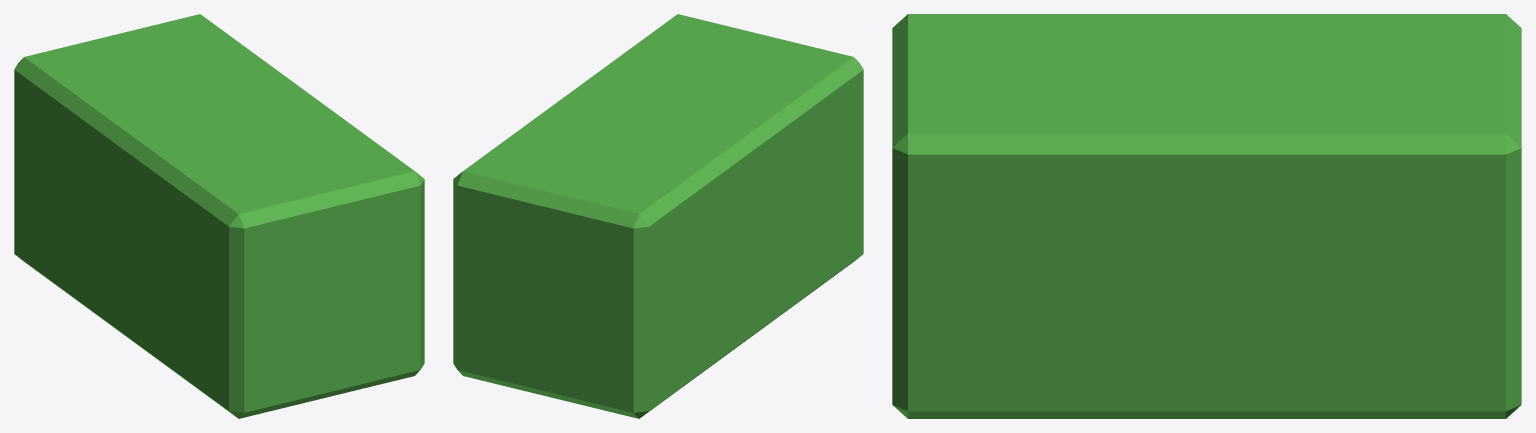
Rendered from Hedge-4x2x2-Straight.FBX.
3 renders of one model, left to right at view 1: azimuth 30°, elevation 25°; view 2: azimuth 150°, elevation 25°; view 3: azimuth 270°, elevation 25°, orthographic. The views are drawn at different scales.
Parts seen in each view (by area): view 1: Hedge-4x2x2-Straight; view 2: Hedge-4x2x2-Straight; view 3: Hedge-4x2x2-Straight.
Boxes of the visible parts, left/top/right/bottom form: Hedge-4x2x2-Straight: left=14, top=14, right=424, bottom=418; Hedge-4x2x2-Straight: left=453, top=14, right=863, bottom=418; Hedge-4x2x2-Straight: left=892, top=14, right=1521, bottom=418.
Bounding box in the file's own units: 20 × 40 × 20.
